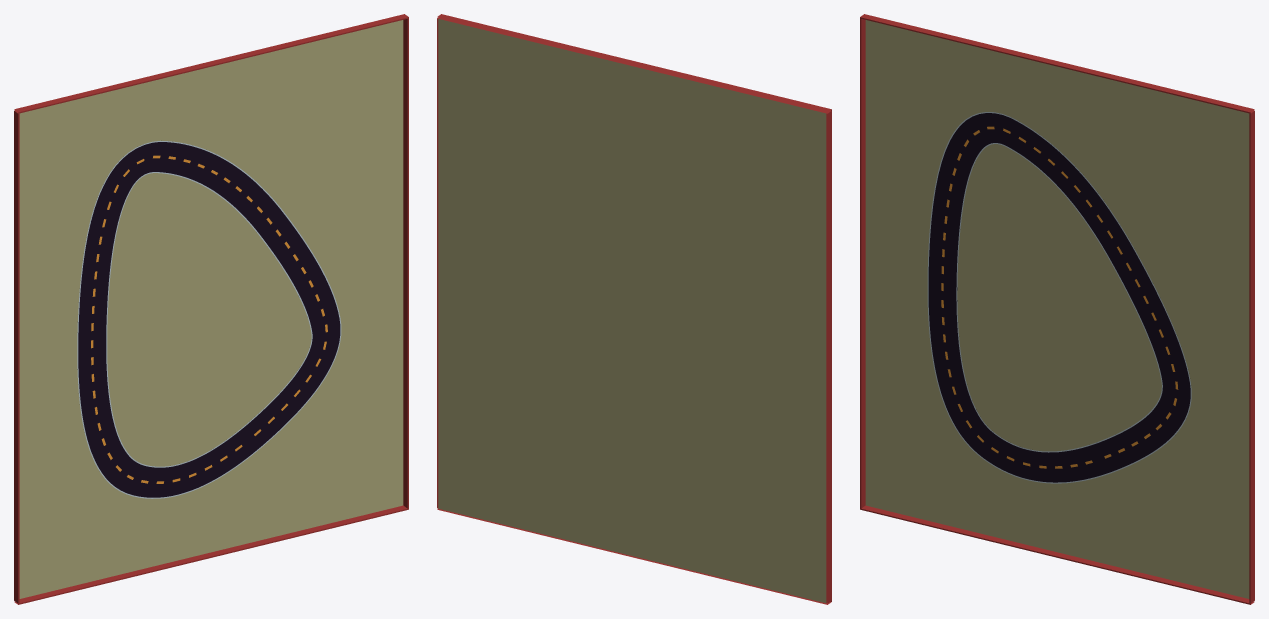
File: track.obj
The picture shows the model from 3 angles, left to right: view 1: azimuth 30°, elevation 25°; view 2: azimuth 150°, elevation 25°; view 3: azimuth 330°, elevation 25°; orthographic projection.
Size of the model in its own units: 15.64 by 18.84 by 0.3.
5 materials, 5 textured.
